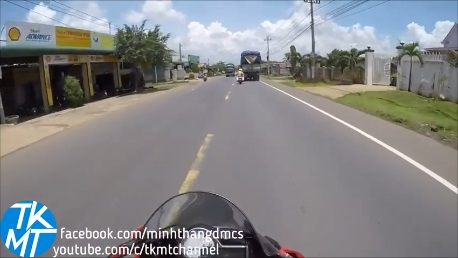police: (235, 68, 247, 86)
